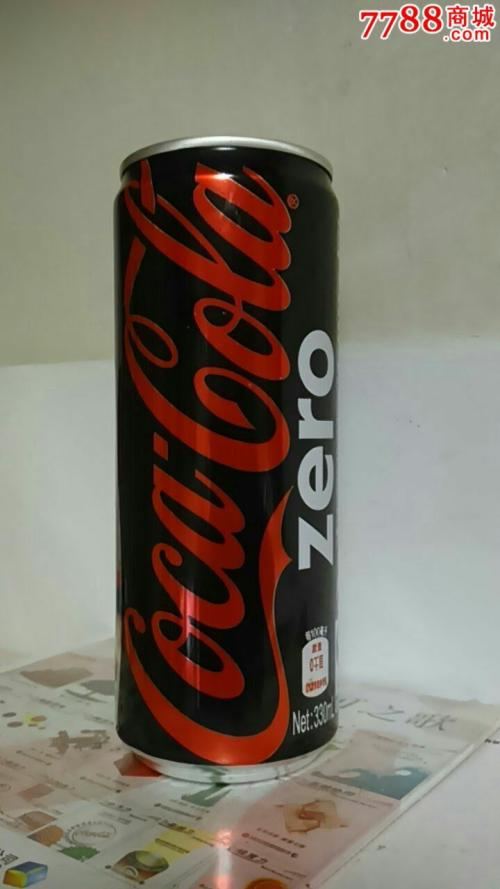coke_zero: (61, 105, 389, 813)
